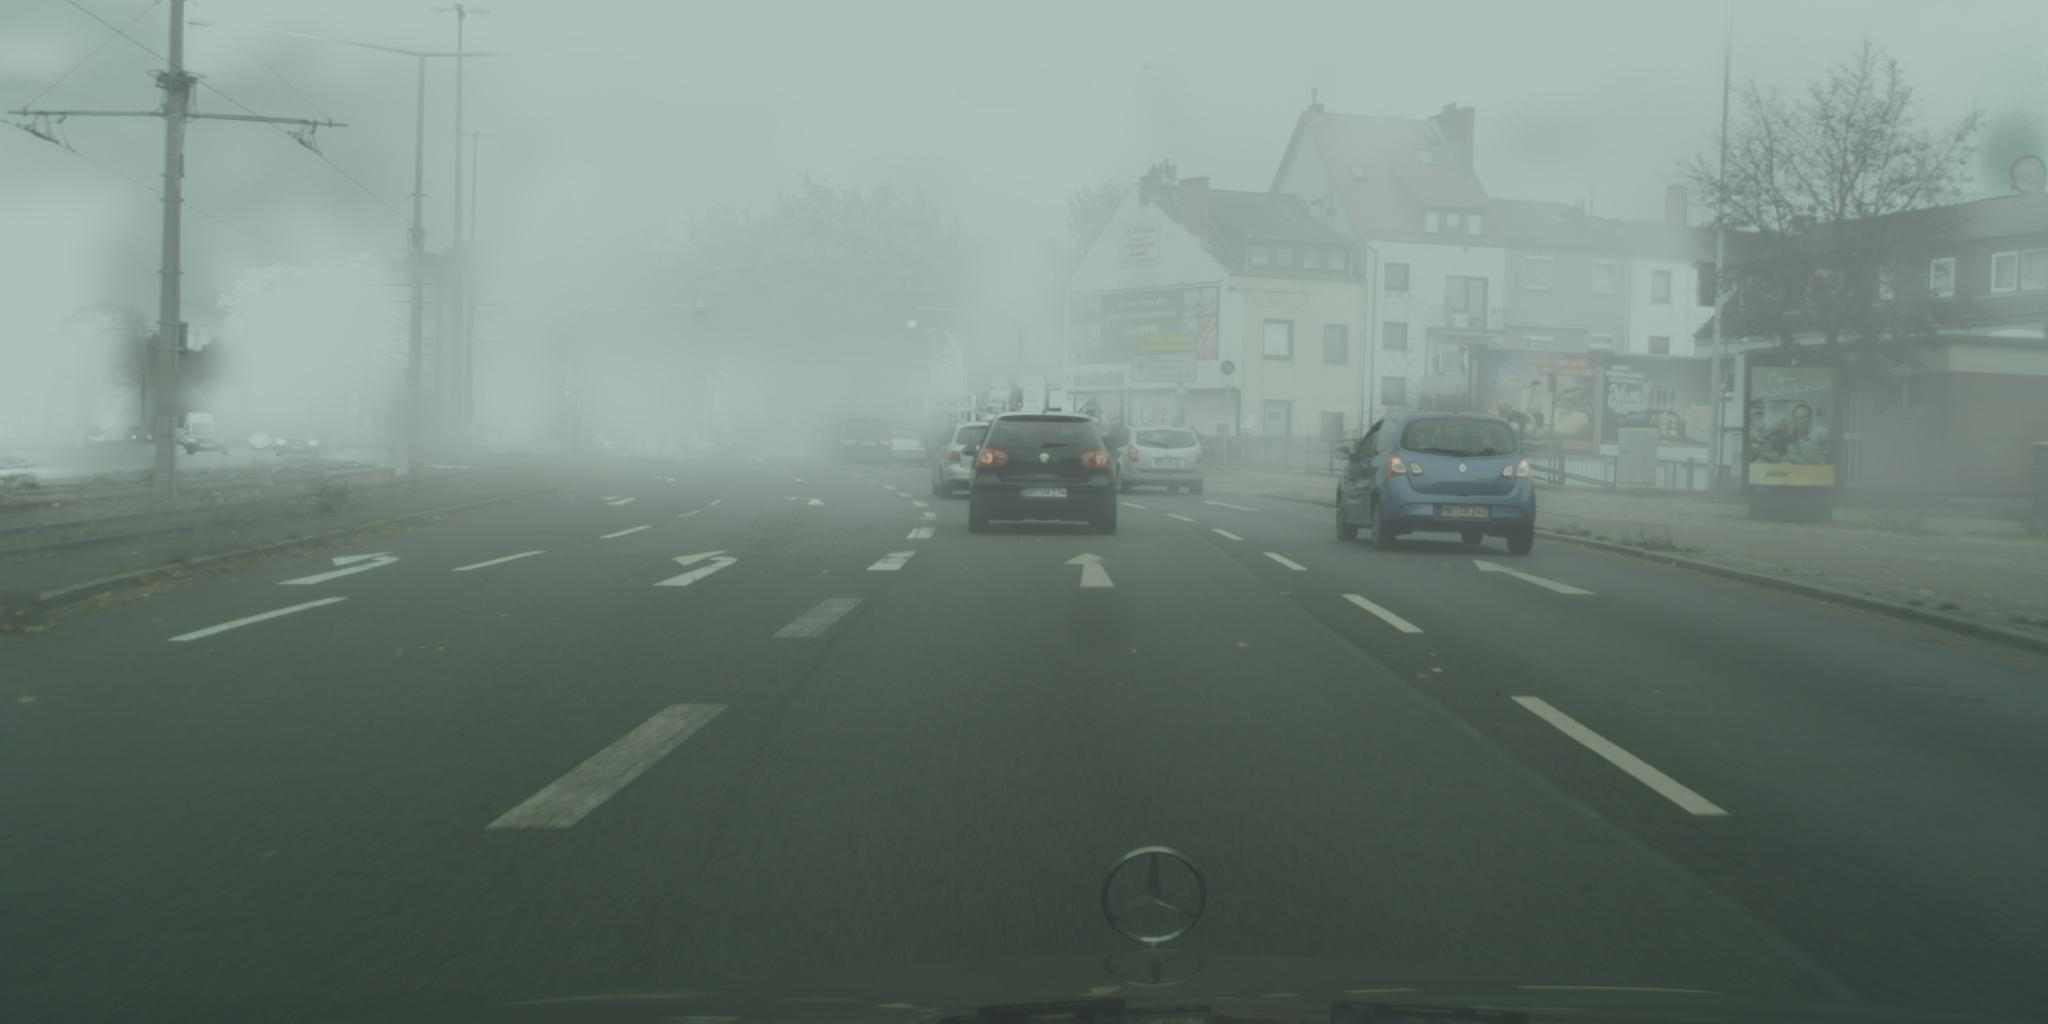car: (1334, 411, 1539, 556), (964, 410, 1125, 537), (1102, 427, 1207, 498), (927, 421, 1004, 500), (828, 421, 893, 472), (714, 423, 767, 464), (878, 430, 927, 468), (276, 424, 323, 458), (678, 434, 725, 461), (247, 428, 296, 453), (586, 434, 631, 458), (530, 434, 569, 456), (374, 434, 409, 455), (78, 422, 106, 444), (121, 426, 154, 444)
